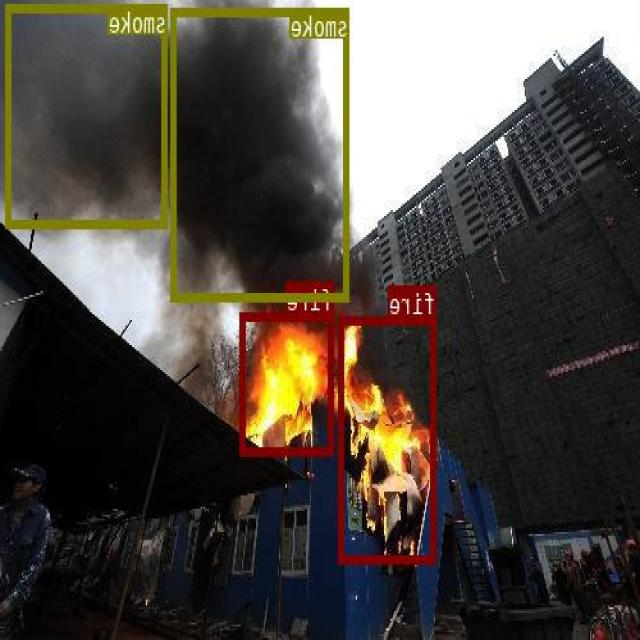fire: (340, 314, 438, 562), (242, 312, 334, 454)
smoke: (172, 7, 350, 300), (7, 4, 168, 227)
